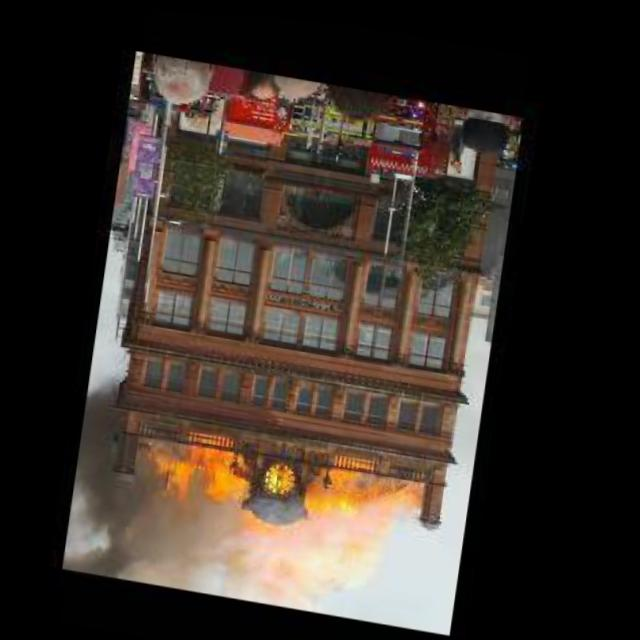Fire: (142, 417, 425, 550), (70, 370, 164, 580)
